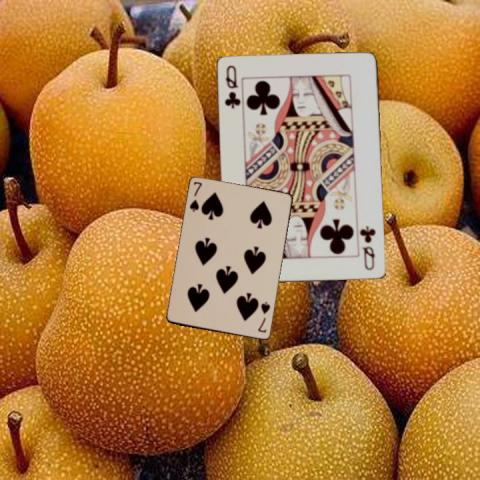7s: (255, 299, 272, 334), (187, 179, 203, 213)
Qc: (222, 62, 243, 110), (359, 223, 377, 272)
